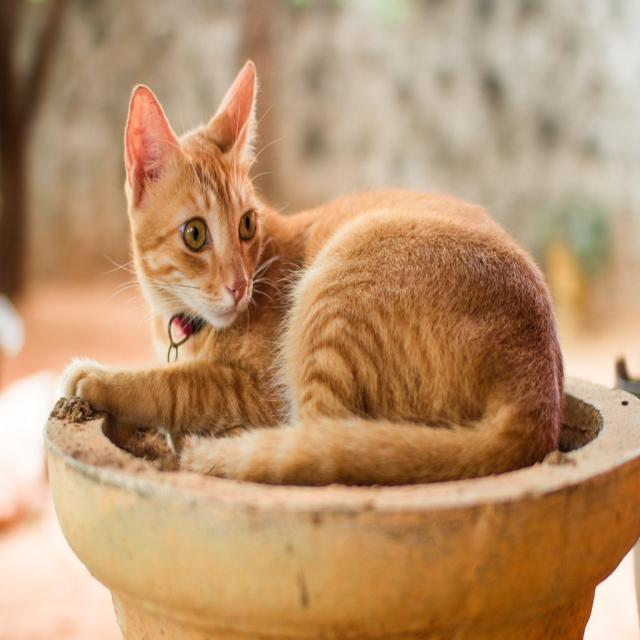Cat: (58, 58, 570, 485)
